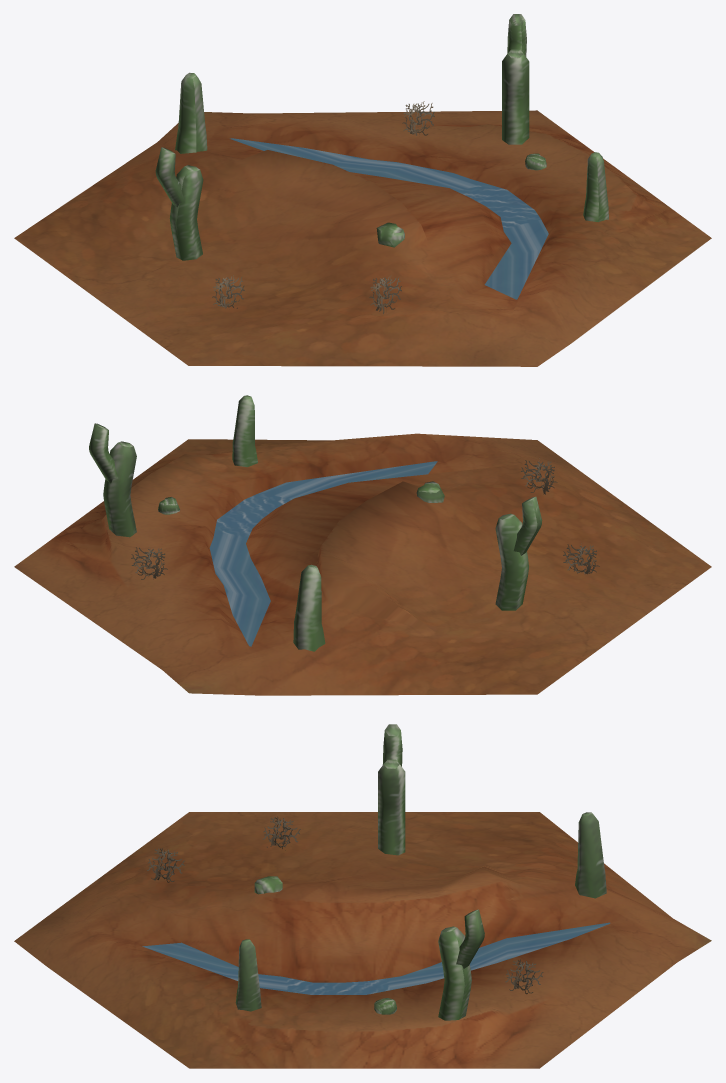
The model's file is RioCaatinga.fbx.
3 views of the same model, one above another, from view 1: azimuth 30°, elevation 25°; view 2: azimuth 150°, elevation 25°; view 3: azimuth 270°, elevation 25° (orthographic).
Parts seen in each view (by area): view 1: RioCaatinga; view 2: RioCaatinga; view 3: RioCaatinga.
Boxes of the visible parts, x1,y1,x2,y2 form: RioCaatinga: (14,14,711,366); RioCaatinga: (14,395,711,695); RioCaatinga: (14,724,711,1068).
Bounding box in the file's own units: 520 × 129 × 597.
